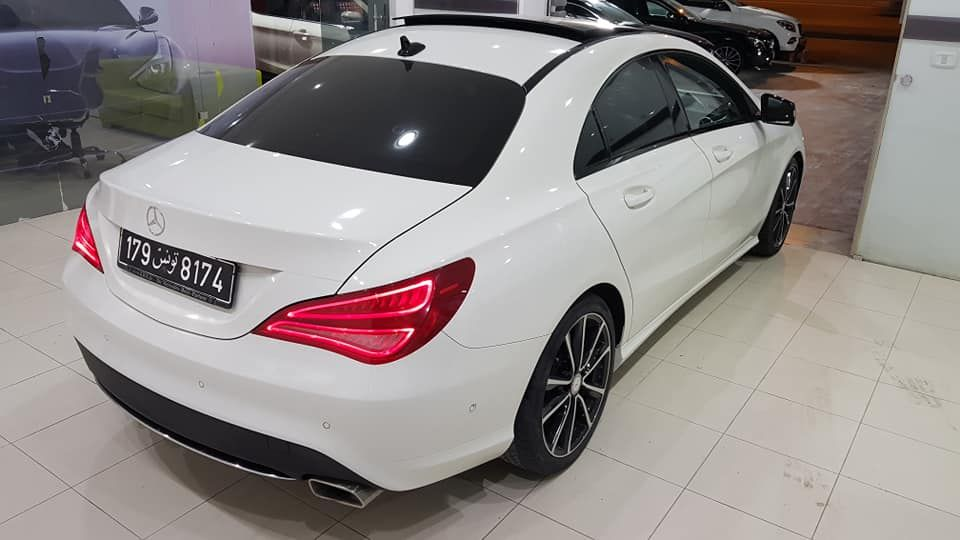LP: (118, 228, 235, 301)
